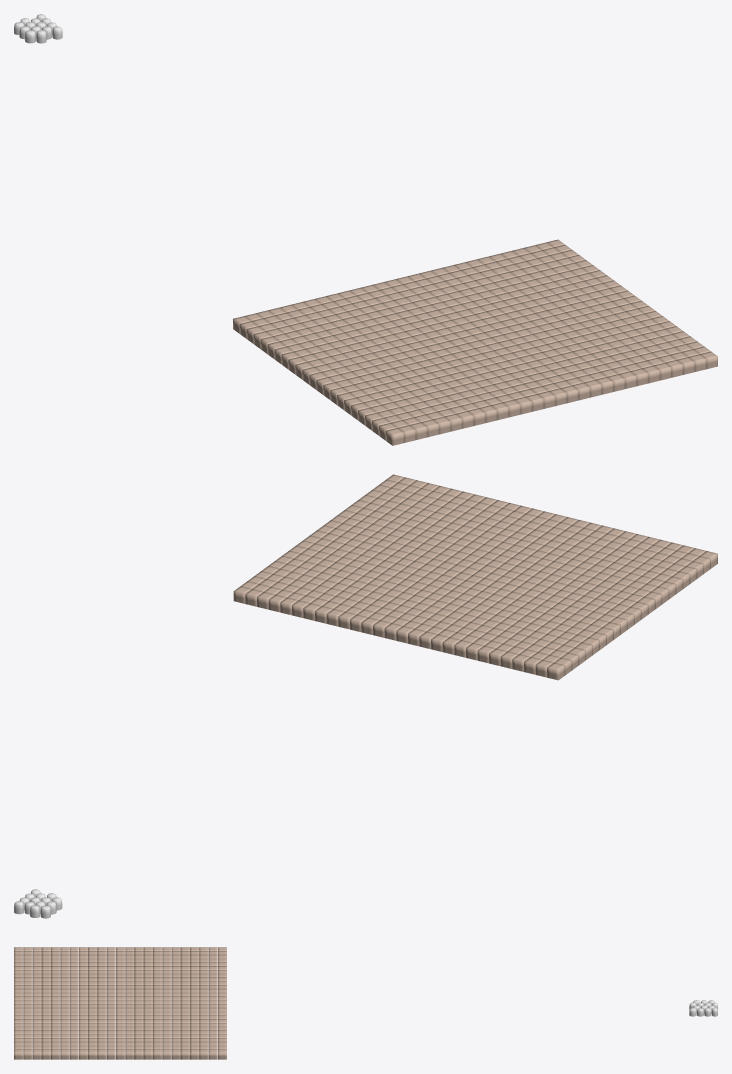
Rendered from streetpatch3.fbx.
3 renders of one model, top to bottom at view 1: azimuth 30°, elevation 25°; view 2: azimuth 150°, elevation 25°; view 3: azimuth 270°, elevation 25°, orthographic. The views are drawn at different scales.
Parts seen in each view (by area): view 1: square_streetpoatch, streetpatch3; view 2: square_streetpoatch, streetpatch3; view 3: square_streetpoatch, streetpatch3.
Boxes of the visible parts, box(x1,y1,x2,y2) form: square_streetpoatch: box(233, 239, 717, 445); streetpatch3: box(14, 14, 62, 43); square_streetpoatch: box(233, 474, 717, 680); streetpatch3: box(14, 889, 62, 918); square_streetpoatch: box(14, 947, 226, 1059); streetpatch3: box(689, 1000, 717, 1016).
Size of the model in its own units: 675 by 1899 by 33.5.
